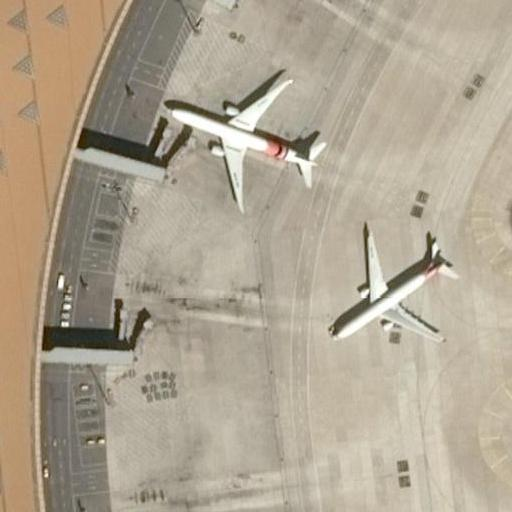Aircraft: (159, 67, 333, 199), (321, 227, 465, 346)
